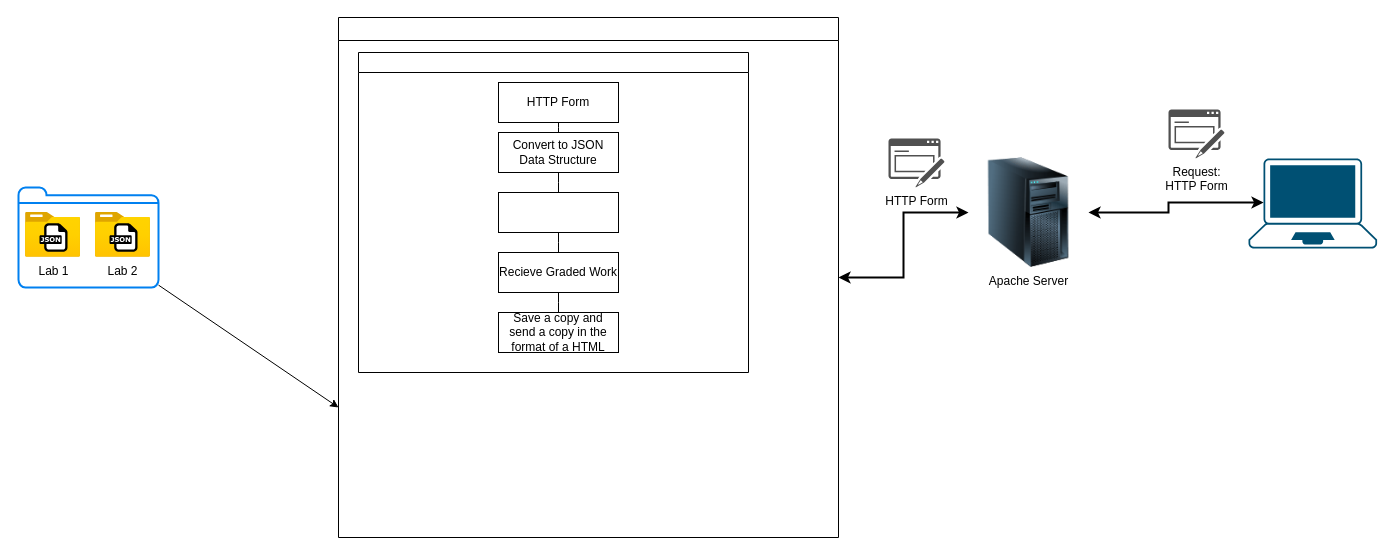
Some shapes in this 1394 by 555 pixel diagram are drawn without their labels. Here are the shapes that lost their labels. From the top down, the box of each, then its label:
(358, 52, 748, 372): Grading Process
(498, 192, 618, 232): Send to Auto grader
(1248, 158, 1377, 248): Client
(17, 186, 159, 288): Students IP
(338, 16, 838, 538): Flask Application
